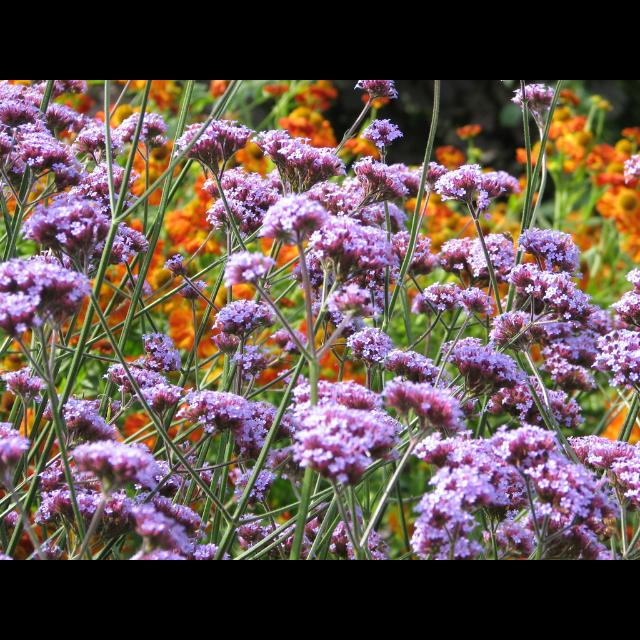Flower: (1, 81, 640, 559), (205, 283, 273, 361)
